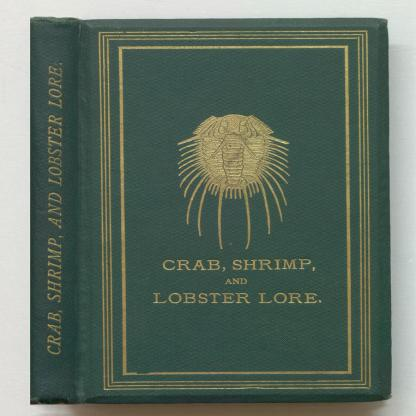book: (22, 15, 390, 404)
